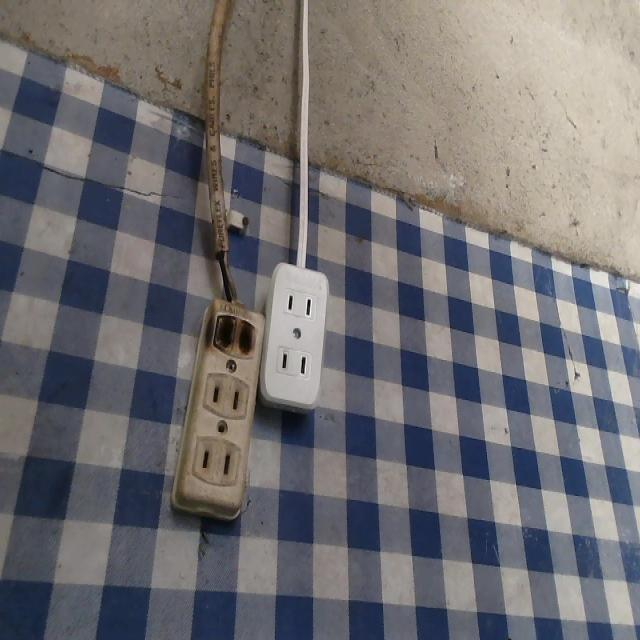-: (200, 298, 264, 362)
